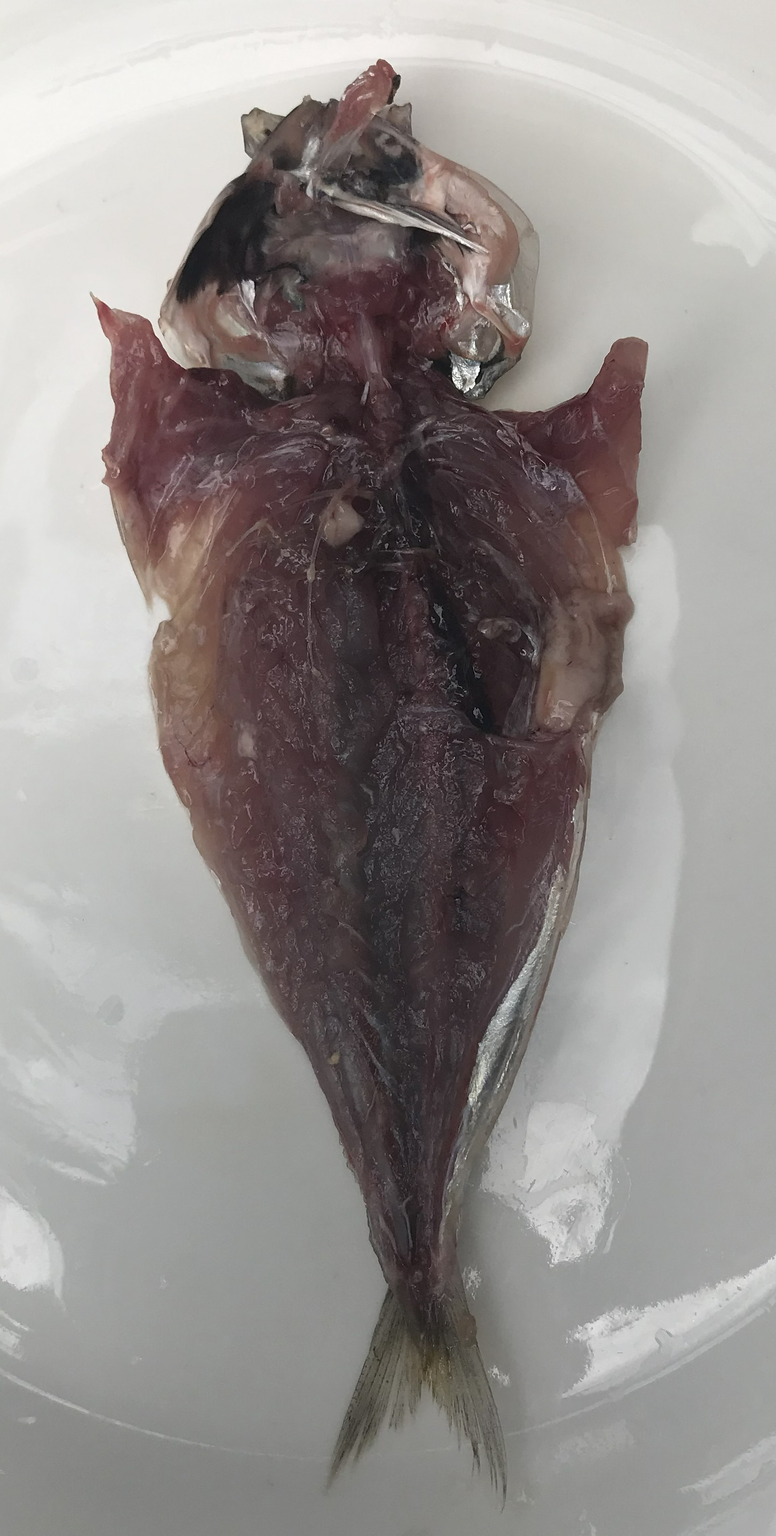barol_not_dried: (96, 60, 648, 1513)
